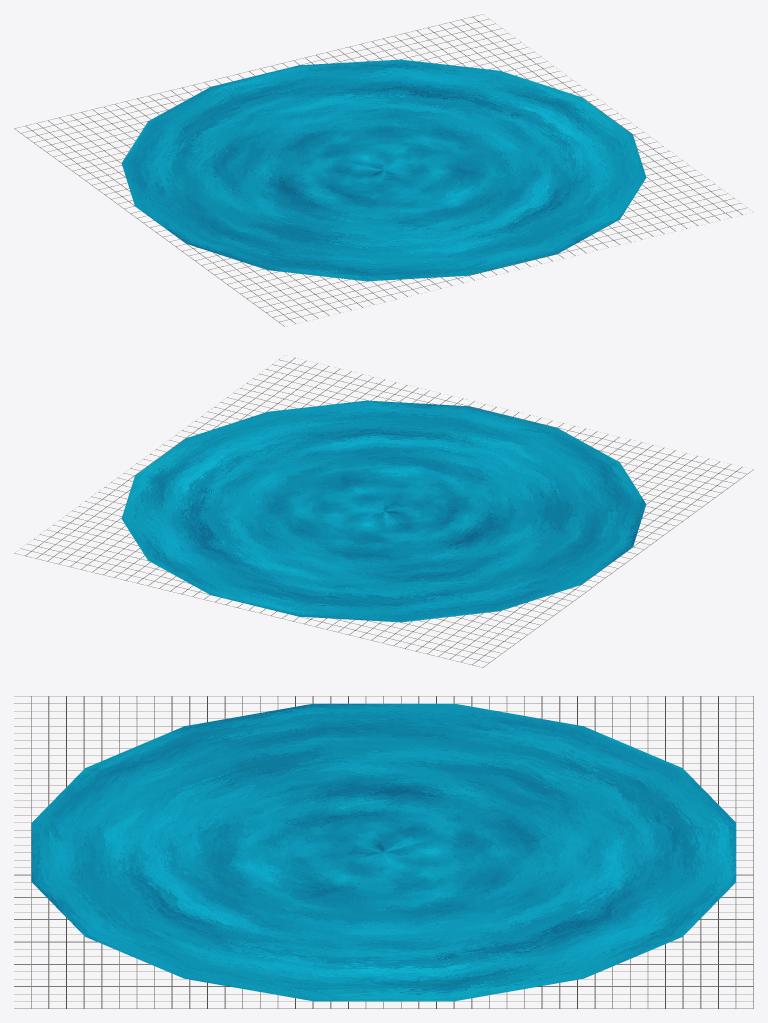
File: Water_Circle_1_Lowpoly.glb
The picture shows the model from 3 angles, top to bottom: view 1: azimuth 30°, elevation 25°; view 2: azimuth 150°, elevation 25°; view 3: azimuth 270°, elevation 25°; orthographic projection. The views are drawn at different scales.
Visible parts, largest first — view 1: Water_Circle_1_Lowpoly, Floor; view 2: Water_Circle_1_Lowpoly, Floor; view 3: Water_Circle_1_Lowpoly, Floor.
Part boxes in pixels (x1,y1,x2,y2): Water_Circle_1_Lowpoly: (121,59,646,281); Floor: (14,14,747,326); Water_Circle_1_Lowpoly: (121,400,646,622); Floor: (14,355,753,667); Water_Circle_1_Lowpoly: (31,703,736,1001); Floor: (14,696,753,1008).
Bounding box in the file's own units: 4200 × 0.000847 × 4200.
2 materials, 2 textured.
